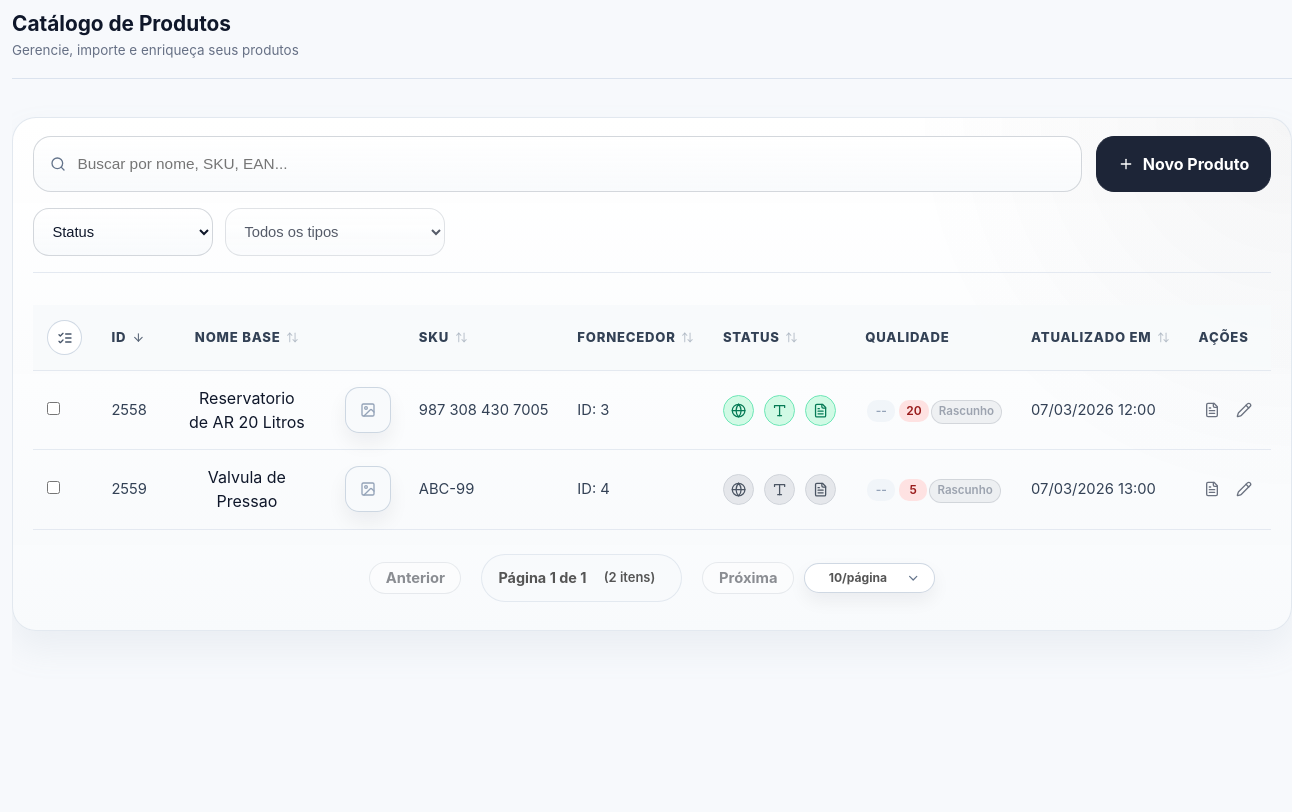
ProdutosPage › clears product selection when filters change
Expected: the text "Reservatorio de AR 20 Litros" is shown, [161,371,332,450]
Click the button named "Opções de seleção": point(65, 338) [47,320,82,355]
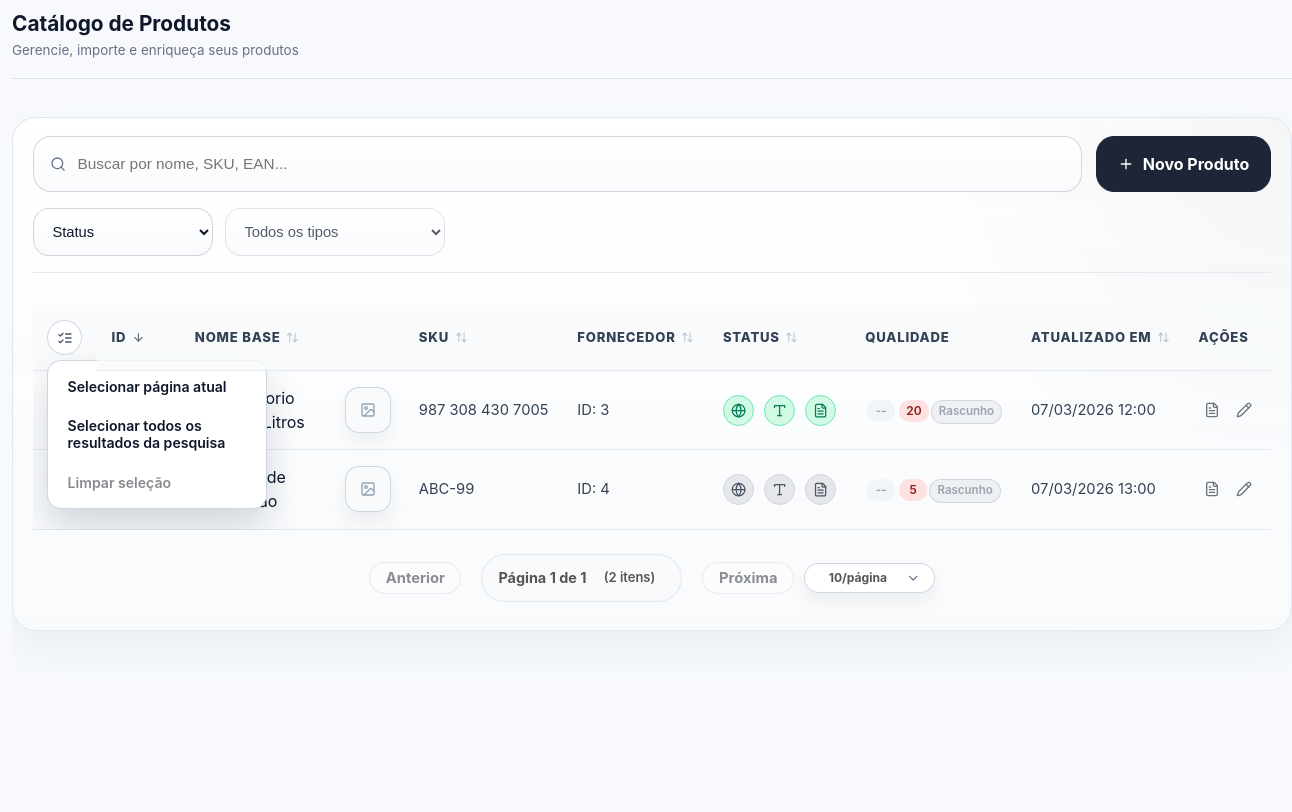
Click the menu item "Selecionar página atual": point(157, 387) [54,367,261,406]
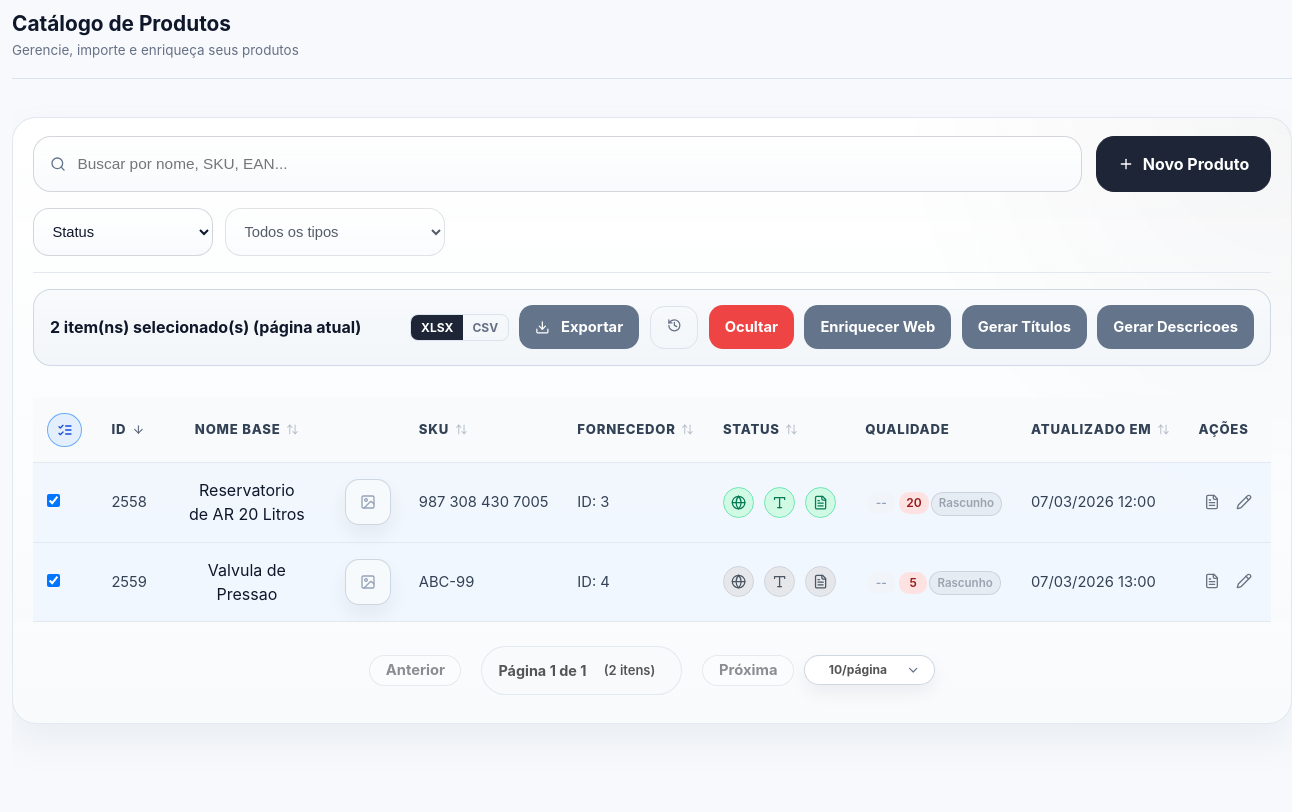
Expected: the text "2 item(ns) selecionado(s) (página atual)" is shown, [50,315,361,339]
In the field with placeholder "Buscar por nome, SKU, EAN...": point(571, 164) [78,155,1065,173], type "Reservatorio"
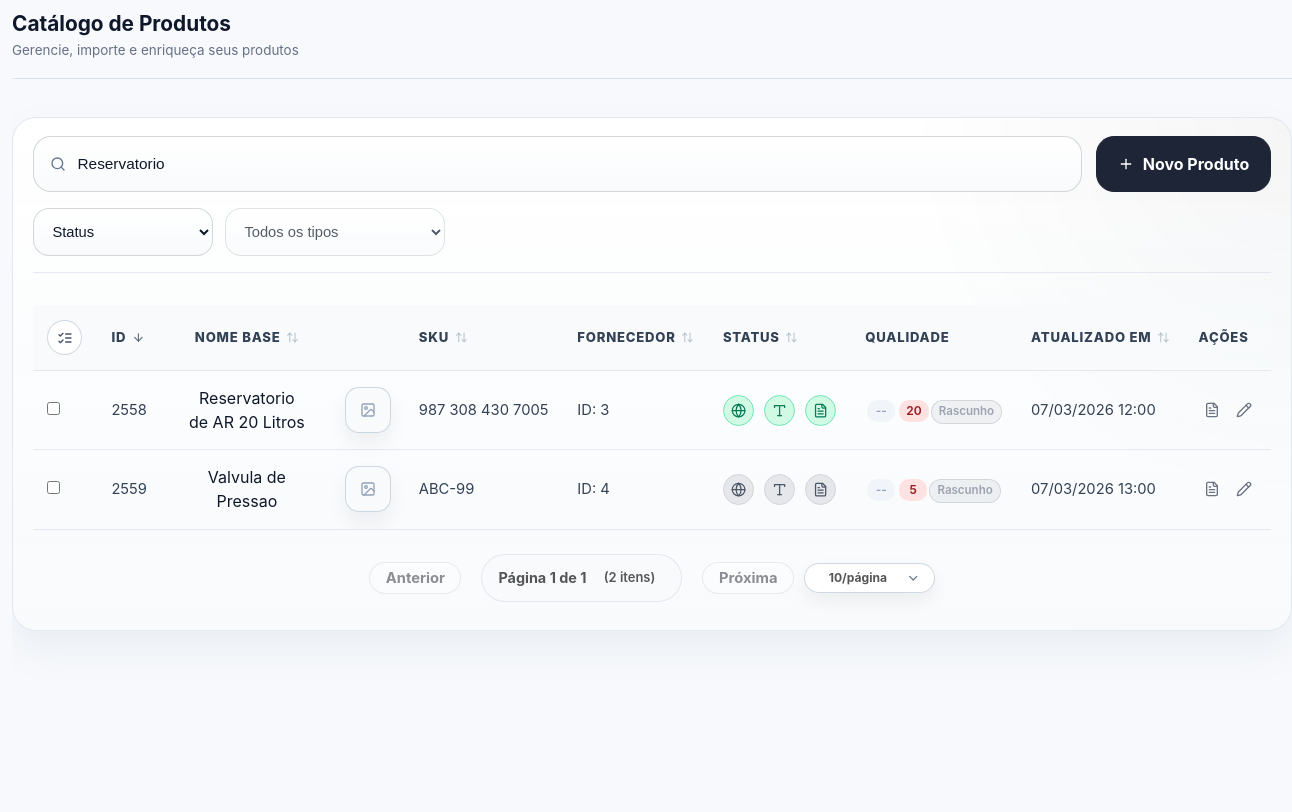
Expected: the text "item(ns) selecionado(s)" is gone
